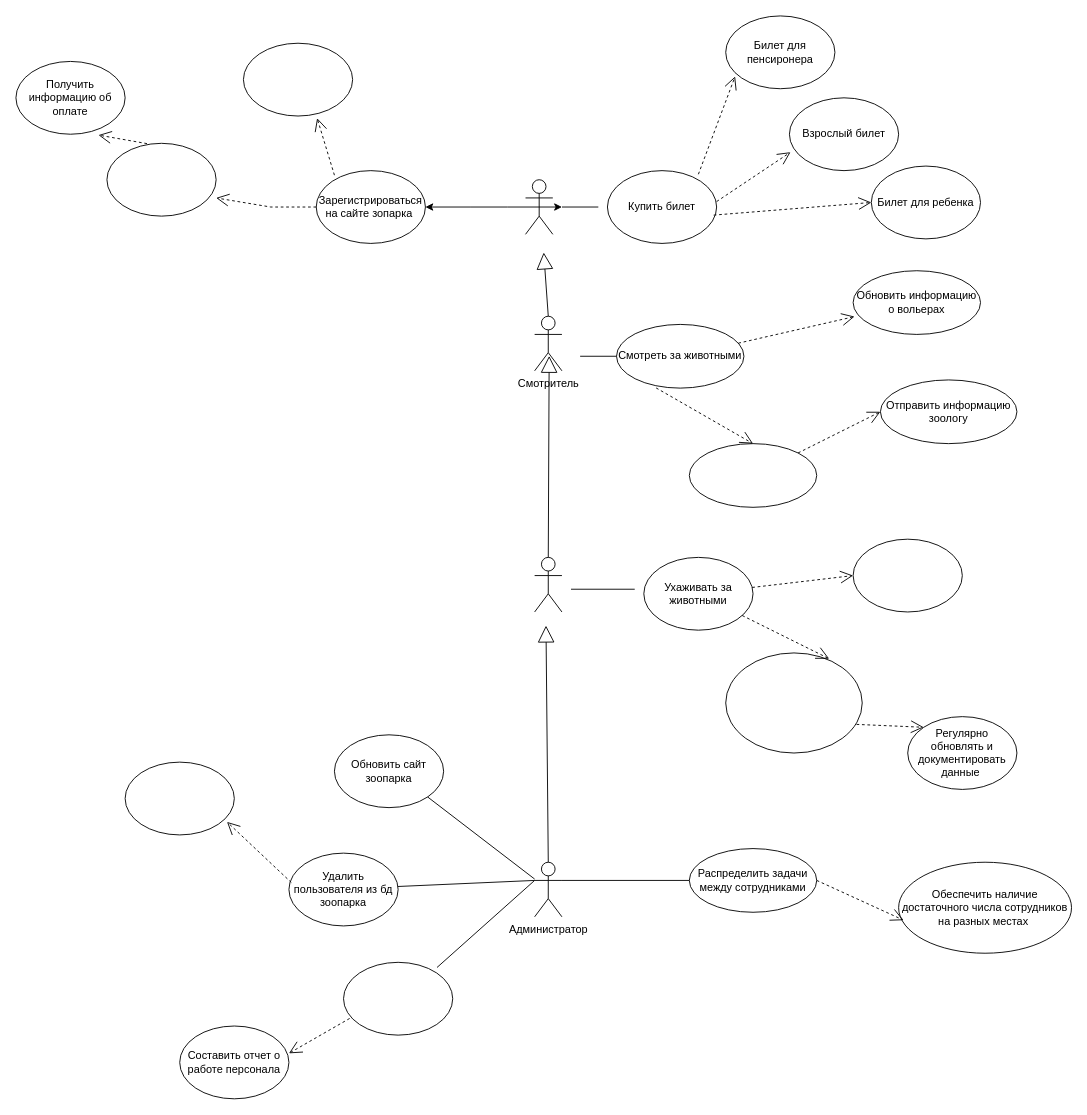
Image size: 1087x1115. Some labels were removed from this diagram. Each missing label, with the box of its shape:
Зоолог: (534, 556, 562, 612)
Обновить информацию о животных: (688, 443, 817, 507)
Обновить информацию о пользователях: (124, 761, 234, 835)
Оплатить билет онлайн: (106, 142, 216, 216)
Посетитель: (525, 179, 553, 234)
Посмотреть информацию о зоопарке: (243, 42, 353, 116)
Собрать все данные о животных: (725, 652, 862, 753)
Составить отчет: (343, 961, 453, 1035)
Составить отчет об уходе за животными: (852, 538, 962, 612)
